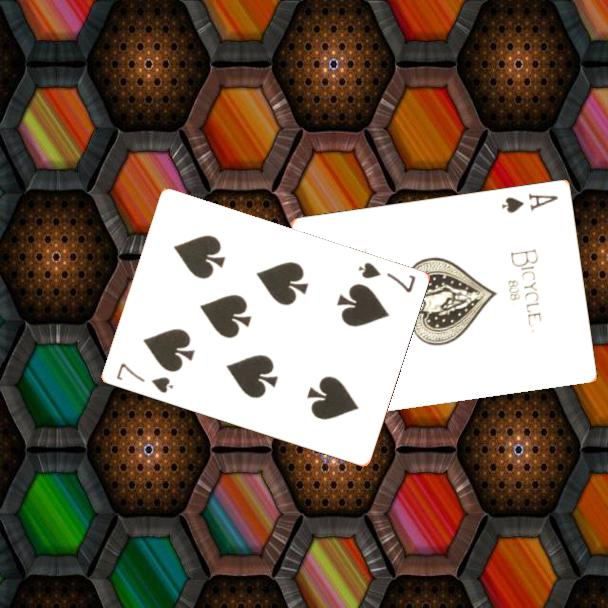s01: (499, 189, 561, 216)
s07: (112, 359, 176, 396), (354, 259, 418, 296)
